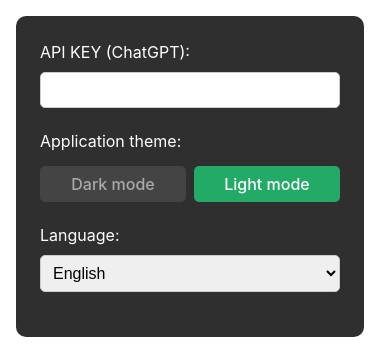
Test: Configuration component › switches to light mode button is clicked
The image size is (381, 354).
Click the button "Light mode": (267, 184) x1=194 y1=166 x2=340 y2=202
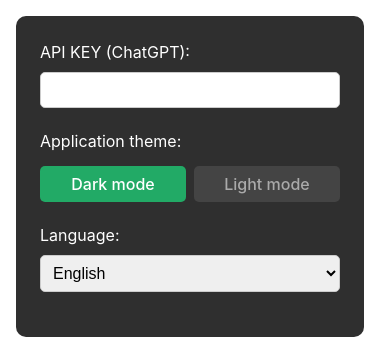
Now the button "Dark mode" is enabled, box x1=40 y1=166 x2=186 y2=202
Now the button "Light mode" is disabled, box x1=194 y1=166 x2=340 y2=202
